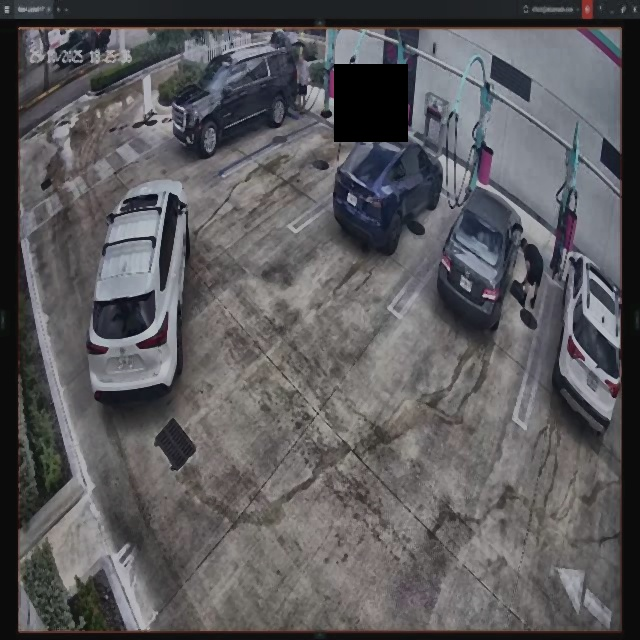Car: (90, 177, 188, 391), (332, 121, 443, 251), (437, 184, 522, 328)
